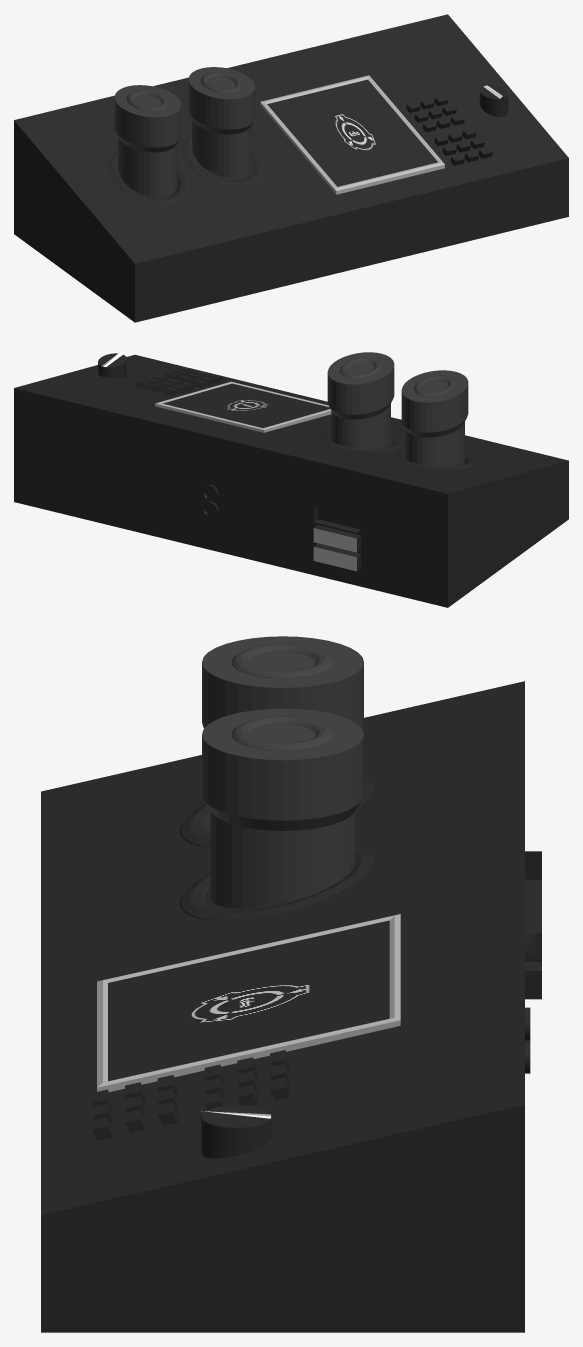
The model's file is console.obj.
The picture shows the model from 3 angles, top to bottom: view 1: azimuth 30°, elevation 25°; view 2: azimuth 150°, elevation 25°; view 3: azimuth 270°, elevation 25°; orthographic projection. The views are drawn at different scales.
Parts seen in each view (by area): view 1: Console_Cube.006; view 2: Console_Cube.006; view 3: Console_Cube.006.
Part boxes in pixels (box(x1,y1,x2,y2)): Console_Cube.006: box(14, 14, 568, 322); Console_Cube.006: box(14, 351, 568, 607); Console_Cube.006: box(41, 636, 541, 1332).
Size of the model in its own units: 1.05 by 0.372 by 0.5234.
1 material, 1 textured.
